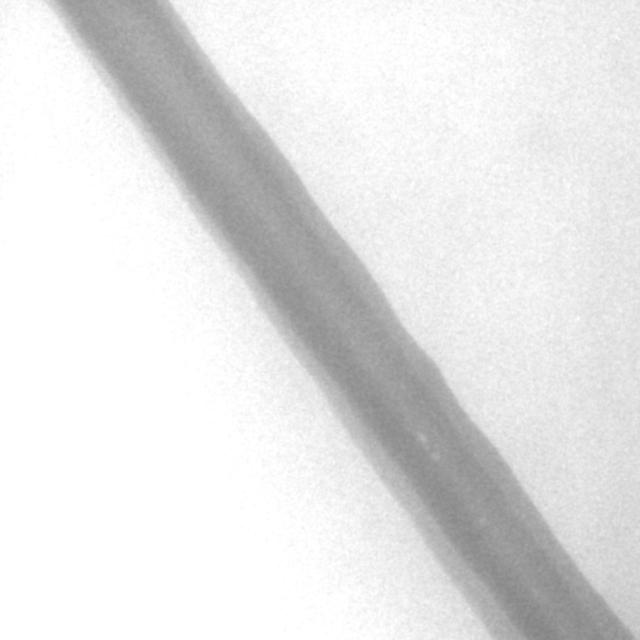air hole: (415, 428, 426, 444), (429, 449, 440, 463)
